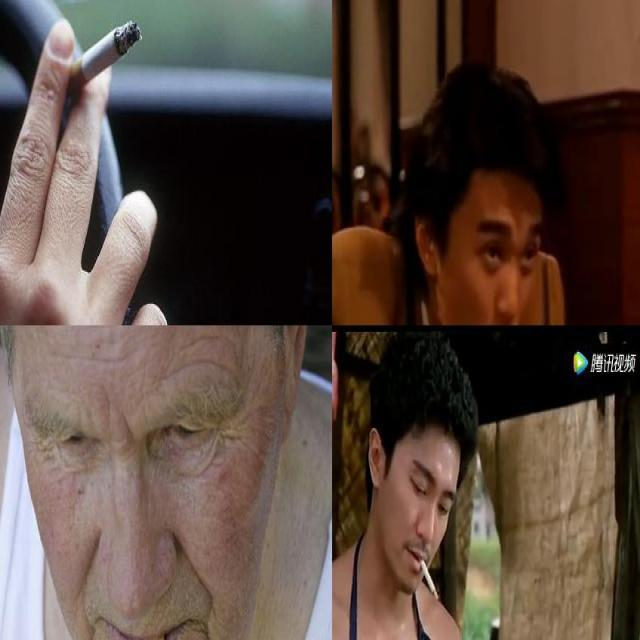smoke: (62, 20, 142, 100), (419, 555, 440, 602)
